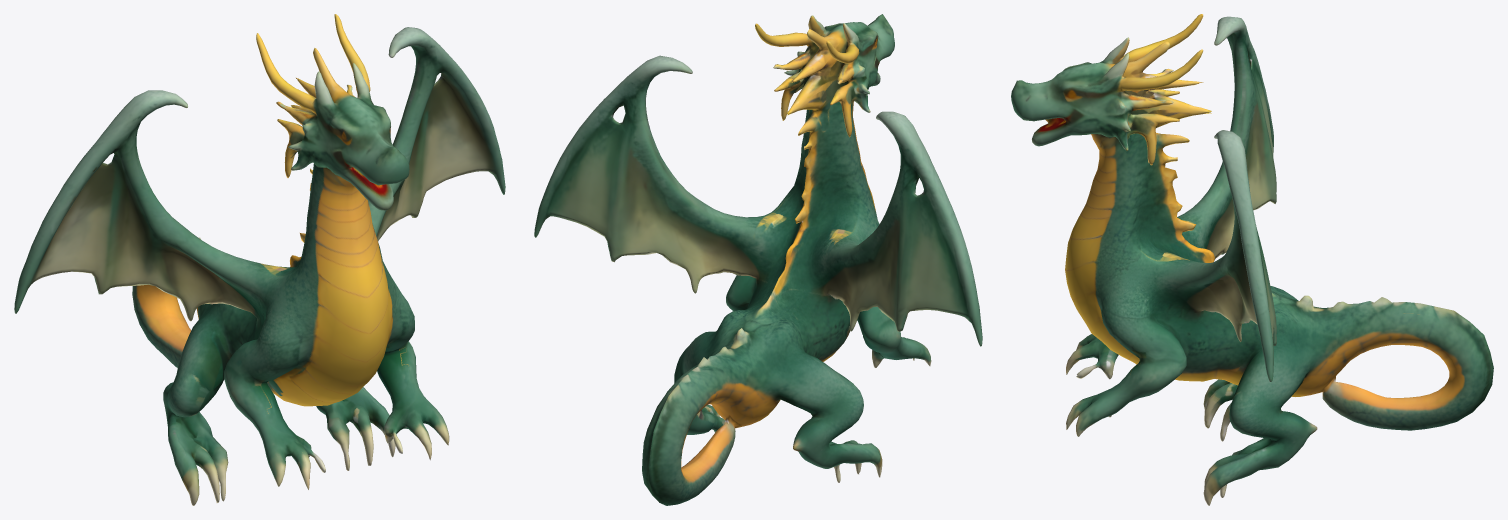
The model's file is dragon-infant-opt.glb.
The picture shows the model from 3 angles, left to right: view 1: azimuth 30°, elevation 25°; view 2: azimuth 150°, elevation 25°; view 3: azimuth 270°, elevation 25°; orthographic projection. The views are drawn at different scales.
Parts seen in each view (by area): view 1: model; view 2: model; view 3: model.
Part boxes in pixels (<box>): model: <box>14,14,505,505</box>; model: <box>534,14,982,505</box>; model: <box>1011,14,1493,505</box>.
Size of the model in its own units: 1.89 by 1.74 by 1.73.
Materials: 1 (1 with a texture image).
